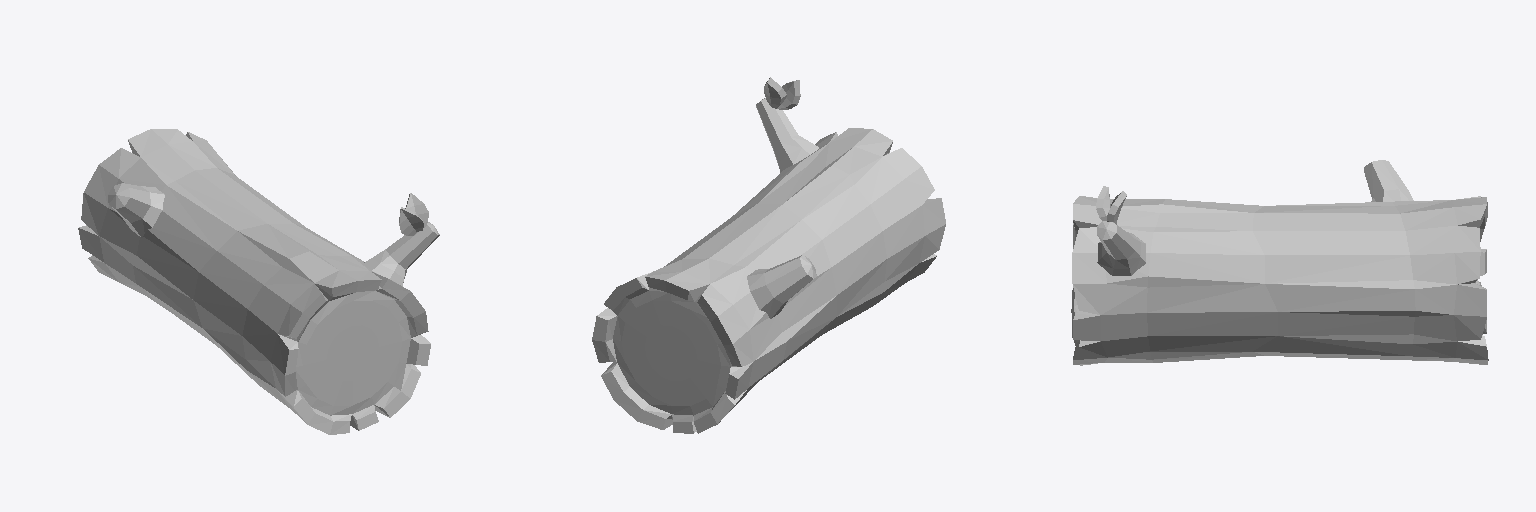
File: Wood_Log_A.obj
3 renders of one model, left to right at view 1: azimuth 30°, elevation 25°; view 2: azimuth 150°, elevation 25°; view 3: azimuth 270°, elevation 25°, orthographic.
Parts seen in each view (by area): view 1: Wood_Log_A; view 2: Wood_Log_A; view 3: Wood_Log_A.
Part boxes in pixels (bbox=[...]): Wood_Log_A: bbox=[78, 129, 439, 434]; Wood_Log_A: bbox=[592, 77, 945, 433]; Wood_Log_A: bbox=[1071, 160, 1488, 365].
Size of the model in its own units: 0.7214 by 0.7334 by 1.35.